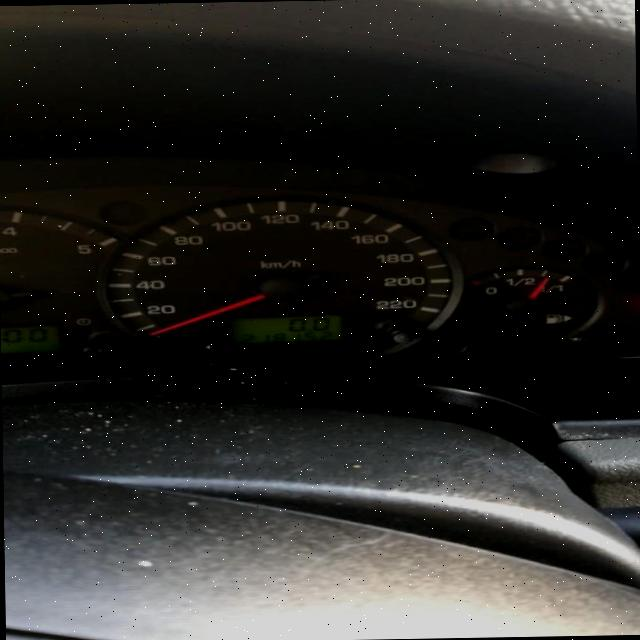odometer: (223, 314, 349, 344)
